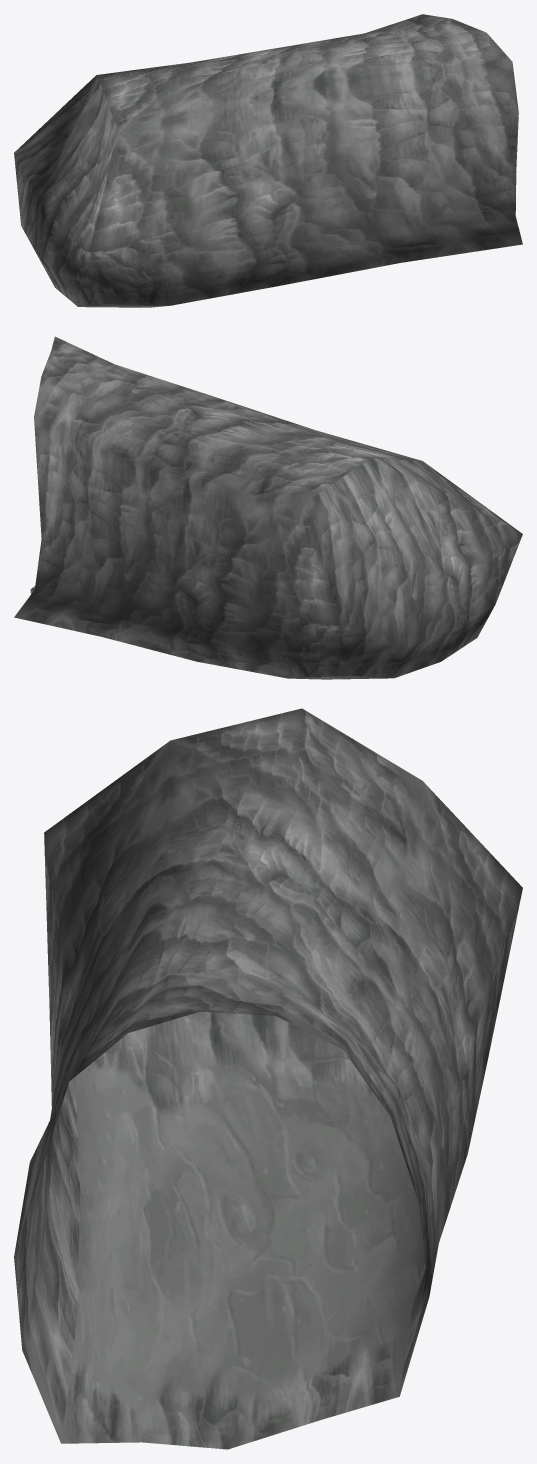
Rendered from SWORDLIGHT20_PS-AREA03_14.fbx.
The picture shows the model from 3 angles, top to bottom: view 1: azimuth 30°, elevation 25°; view 2: azimuth 150°, elevation 25°; view 3: azimuth 270°, elevation 25°; orthographic projection. The views are drawn at different scales.
Parts seen in each view (by area): view 1: SWORDLIGHT20_PS-AREA03_14; view 2: SWORDLIGHT20_PS-AREA03_14; view 3: SWORDLIGHT20_PS-AREA03_14.
Part boxes in pixels (<box>): SWORDLIGHT20_PS-AREA03_14: <box>14,14,522,307</box>; SWORDLIGHT20_PS-AREA03_14: <box>14,336,522,679</box>; SWORDLIGHT20_PS-AREA03_14: <box>14,708,522,1449</box>.
Bounding box in the file's own units: 102577 × 49341 × 53377.
Materials: 2 (2 with a texture image).
